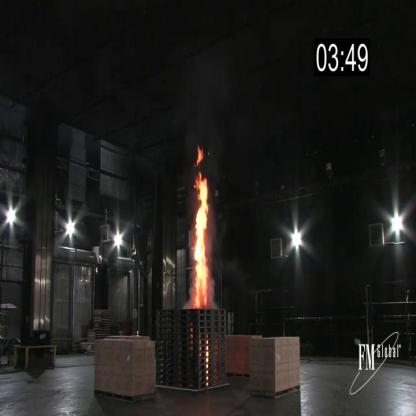fire: (188, 136, 214, 316)
